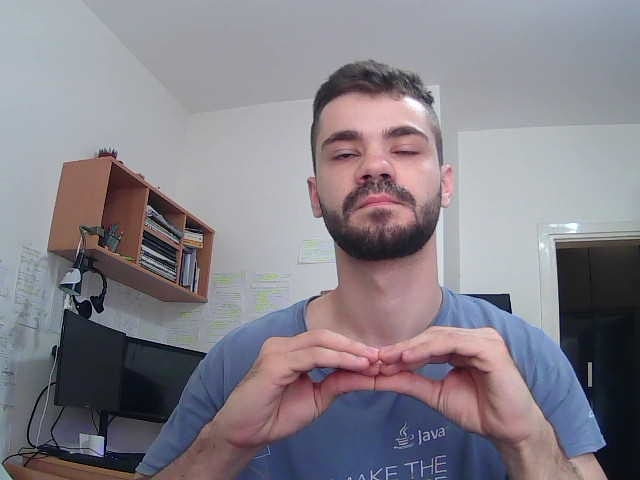b: (225, 317, 562, 448)
